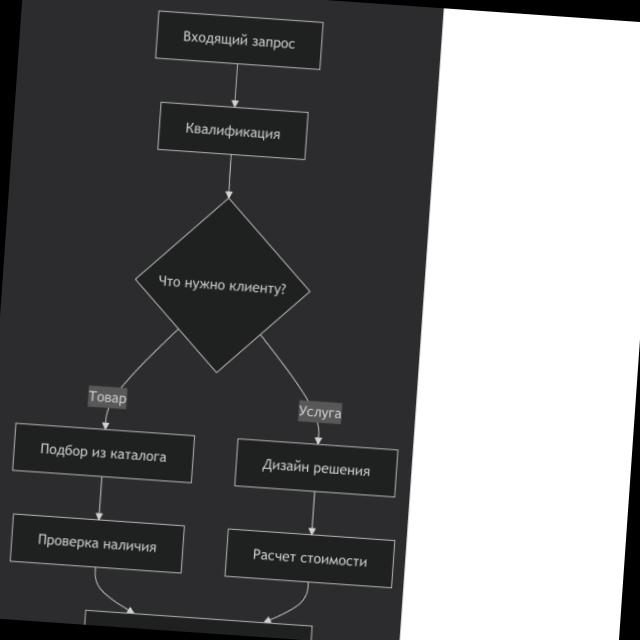arrow: (121, 329, 179, 388), (261, 335, 309, 401), (264, 583, 308, 623), (94, 568, 133, 613), (232, 64, 239, 107), (96, 478, 103, 520), (226, 155, 232, 198), (309, 492, 315, 534)
diamond: (137, 199, 309, 371)
rectangle: (13, 424, 194, 483), (10, 515, 184, 572), (155, 11, 323, 70), (225, 529, 394, 587), (235, 439, 398, 497), (157, 103, 308, 160)
text_region: (298, 398, 342, 422), (88, 384, 127, 409)
